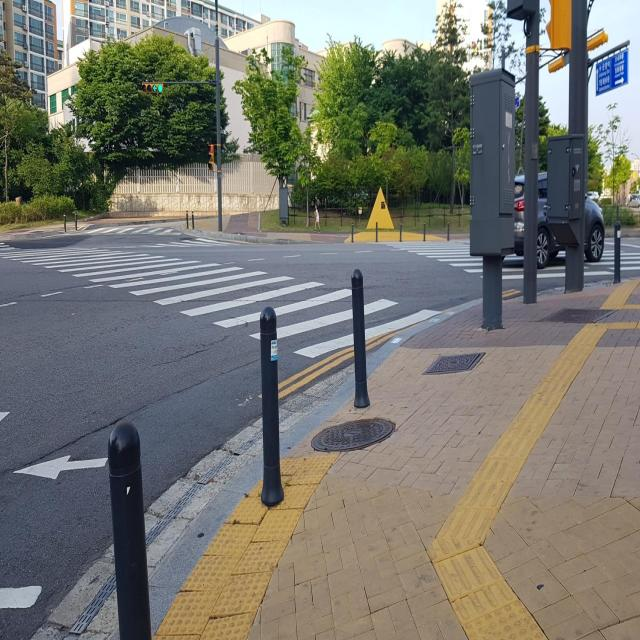횡단보도: (0, 240, 445, 360), (387, 234, 640, 279)
